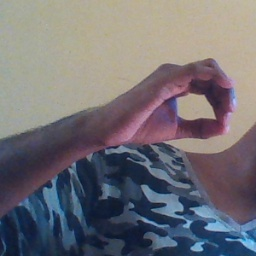O: (109, 53, 240, 154)
